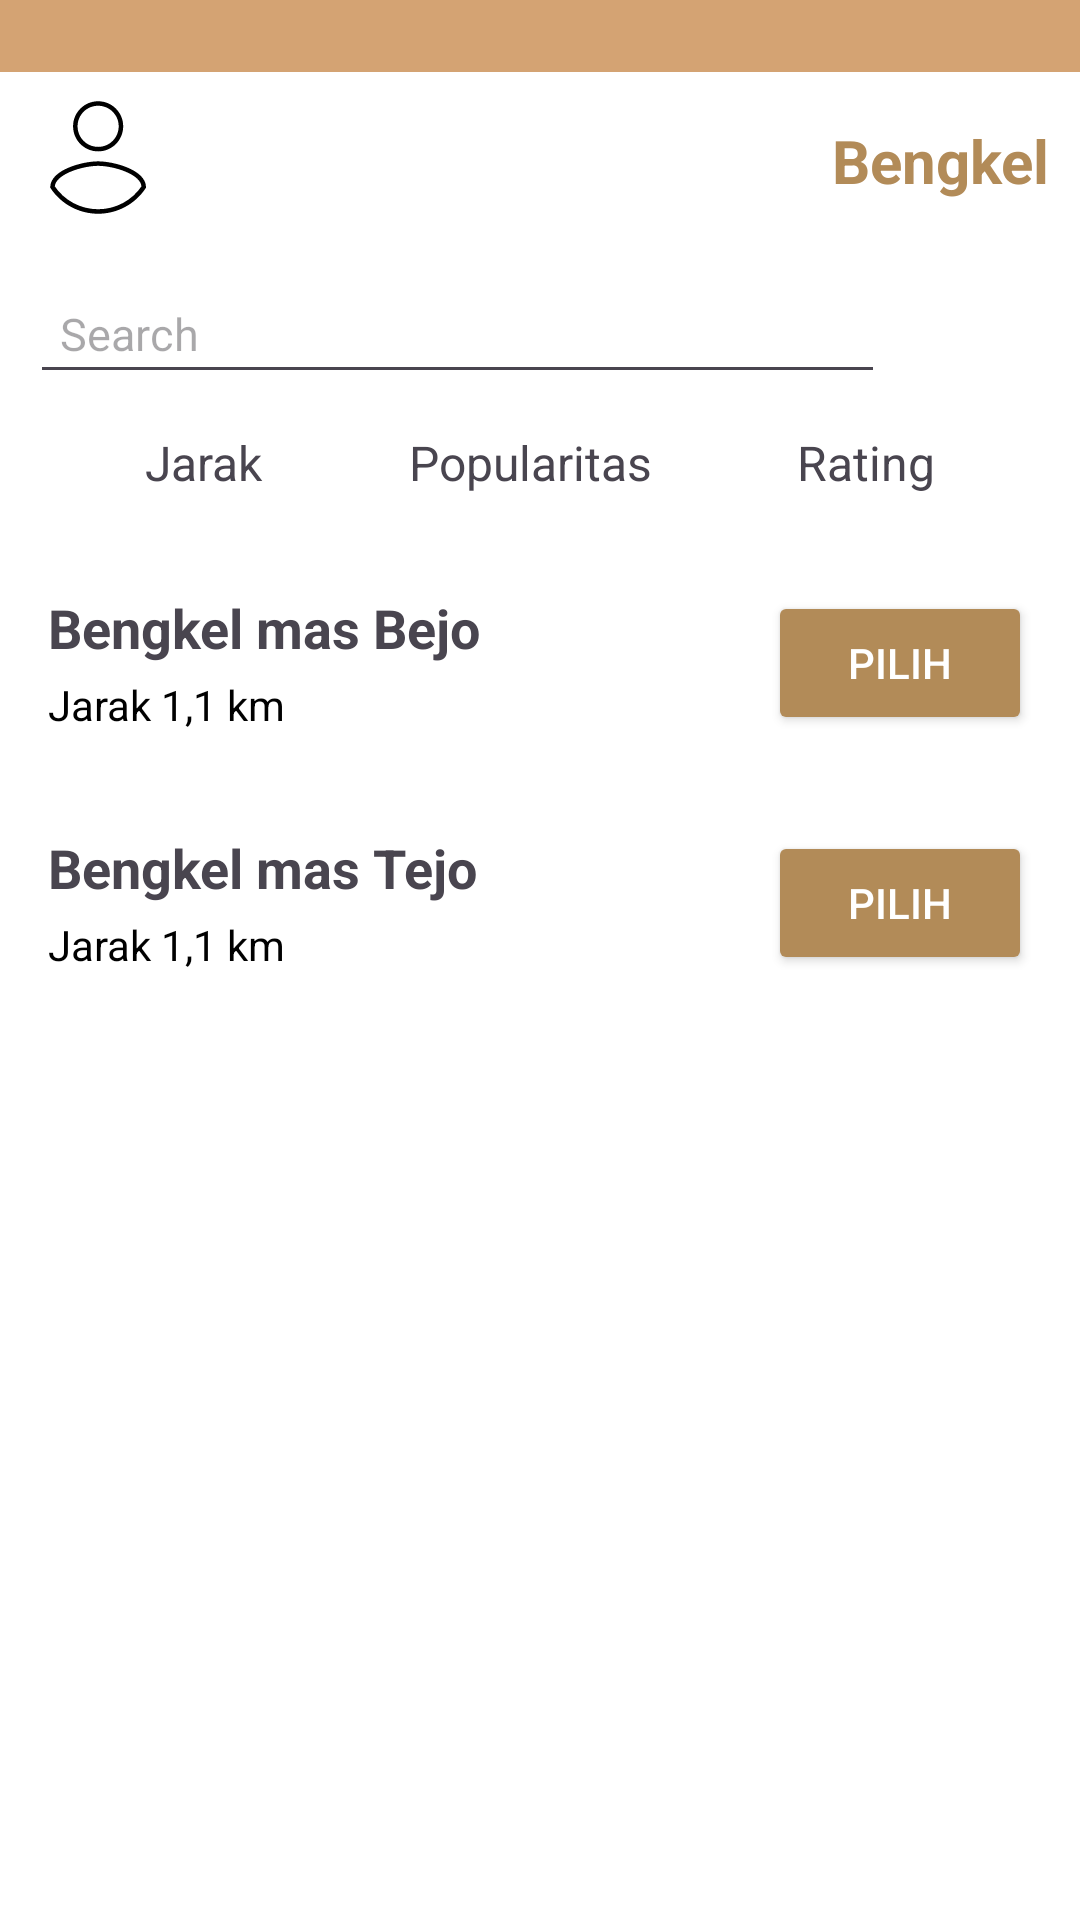

Icon click points for this 1080px x 1920px phone screenshot, format (x,y):
Profile Icon: (98,157)
